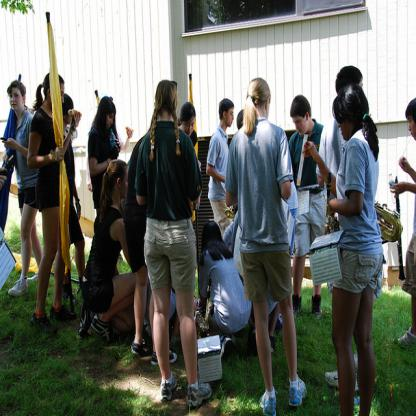handbag: (309, 230, 345, 286)
